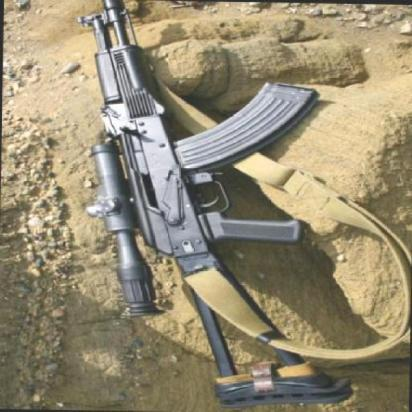Gun: (68, 0, 323, 406)
